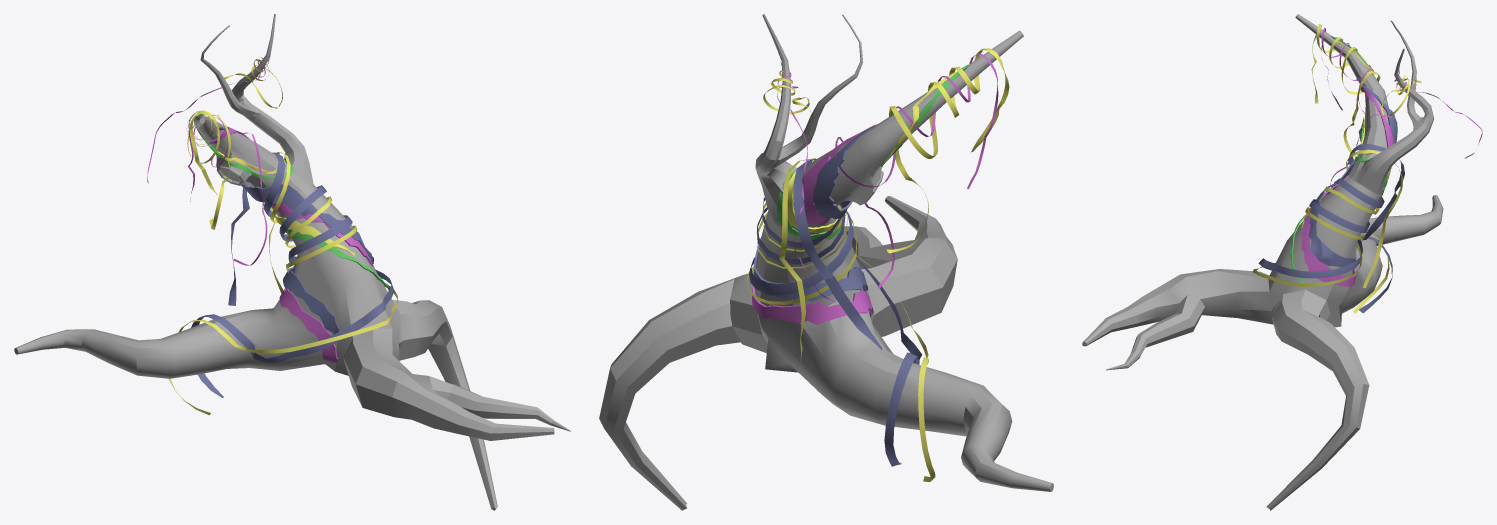
Rendered from tree122502.fbx.
The picture shows the model from 3 angles, left to right: view 1: azimuth 30°, elevation 25°; view 2: azimuth 150°, elevation 25°; view 3: azimuth 270°, elevation 25°; orthographic projection. The views are drawn at different scales.
Parts seen in each view (by area): view 1: tree01, rib; view 2: tree01, rib; view 3: tree01, rib.
Part boxes in pixels (bbox=[...]): tree01: bbox=[14, 14, 570, 510]; rib: bbox=[147, 56, 397, 415]; tree01: bbox=[599, 14, 1053, 510]; rib: bbox=[746, 48, 1009, 482]; tree01: bbox=[1082, 14, 1443, 510]; rib: bbox=[1253, 24, 1482, 313].
Bounding box in the file's own units: 1331 × 1544 × 1367.
